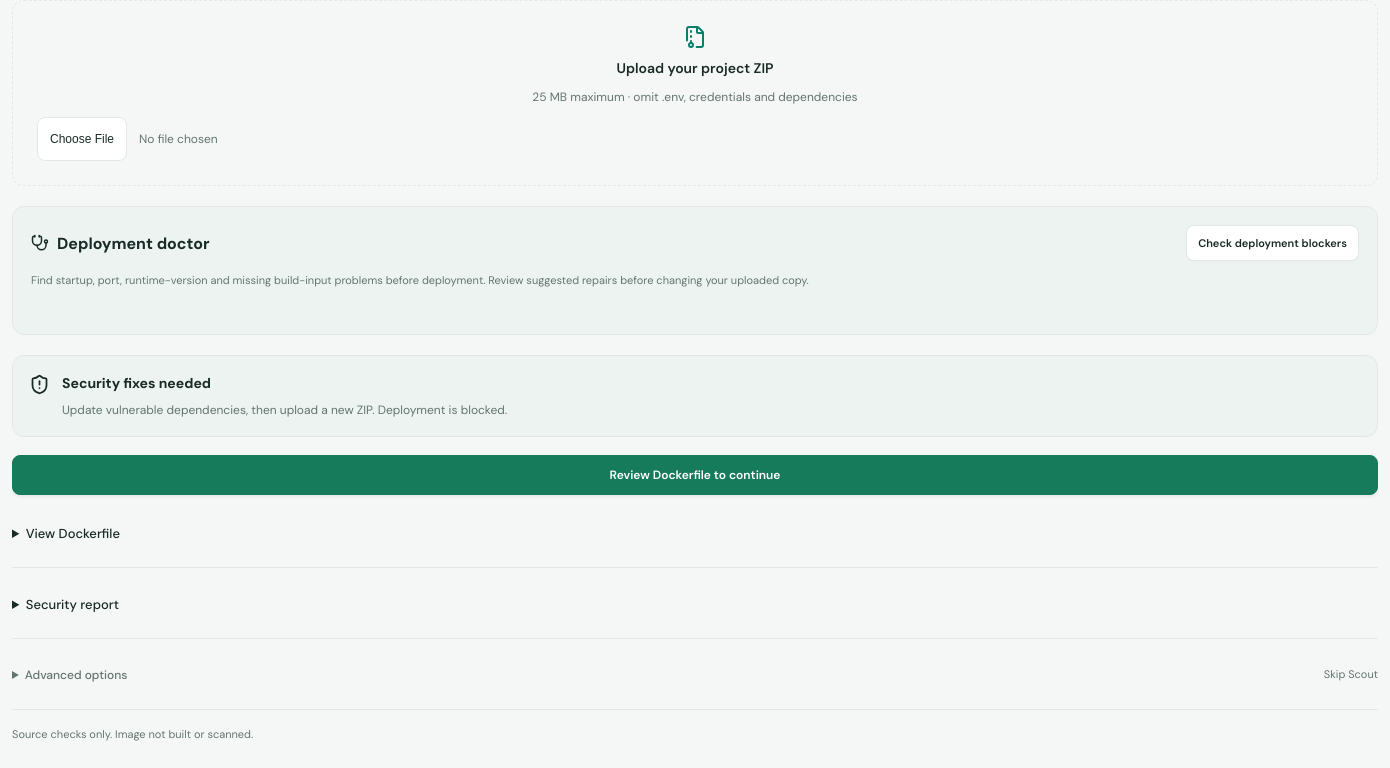
it: shows Scout findings and requires explicit acknowledgement before a bypass action appears
Expected: the text "Update vulnerable dependencies, then upload a new ZIP. Deployment is blocked." is shown, [62,400,507,420]
Expected: the button "Prepare with Scout bypass" is not shown
Step 1. Click the heading "Advanced options Skip Scout" → (76, 675), box [25,667,1378,683]
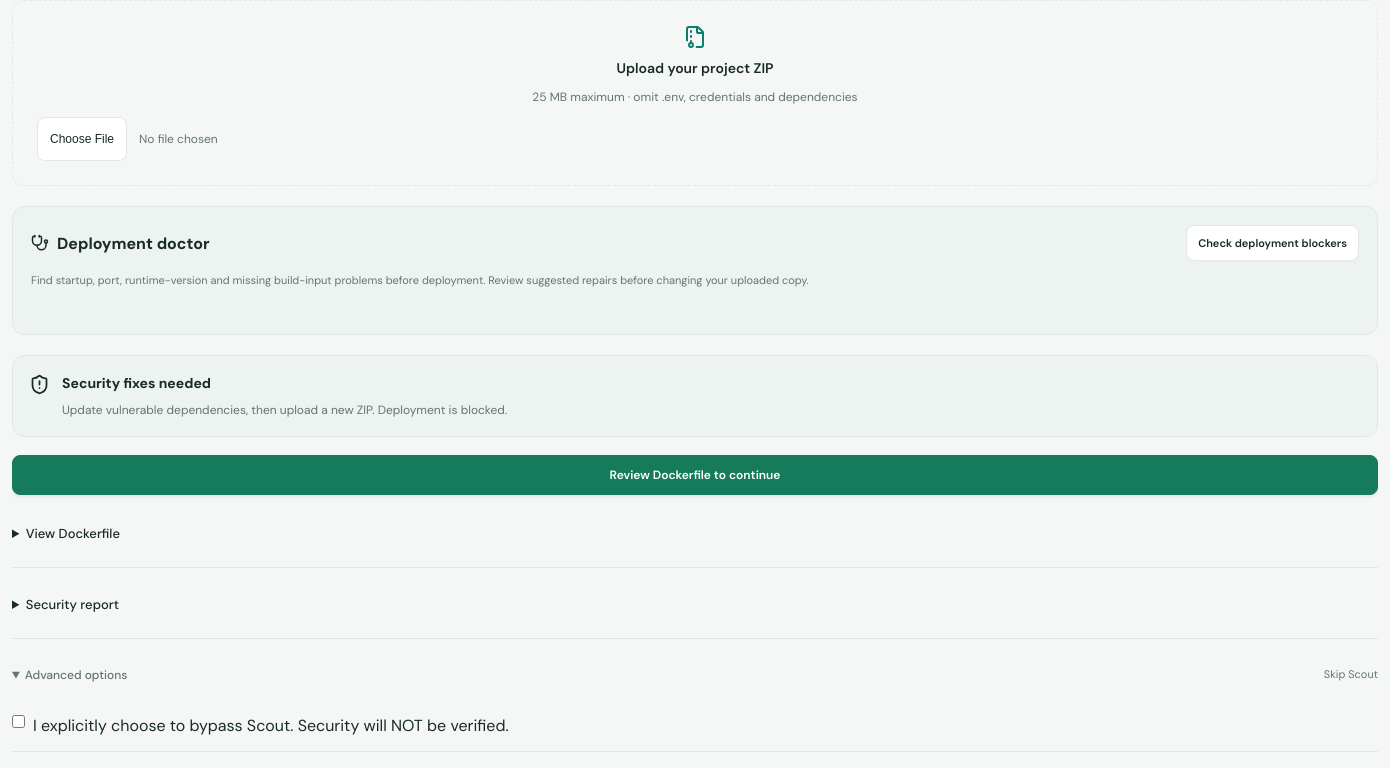
Step 2. Click the checkbox labelled "explicitly choose to bypass Scout" → (18, 722), box [12,715,25,728]
(page scrolled)
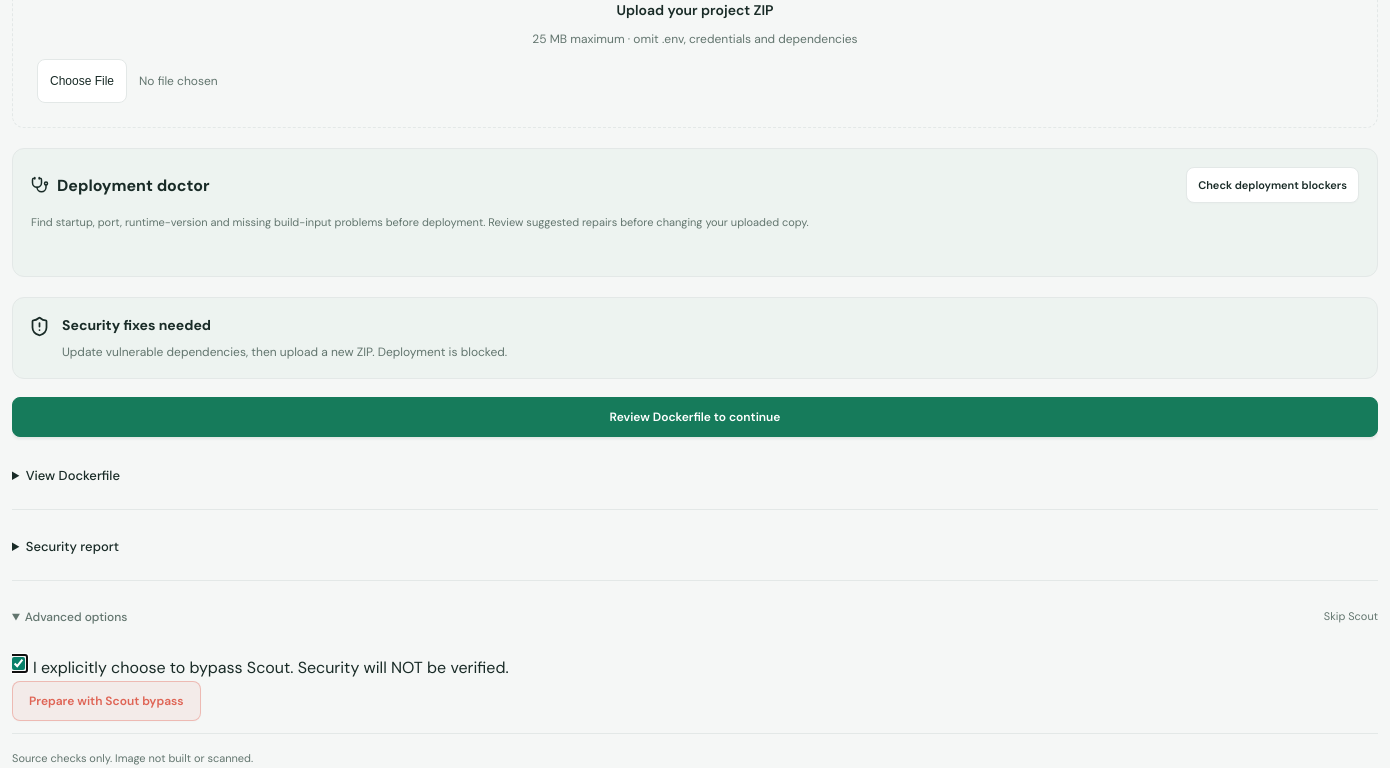
Expected: the button "Prepare with Scout bypass" is shown, [12,681,201,721]
